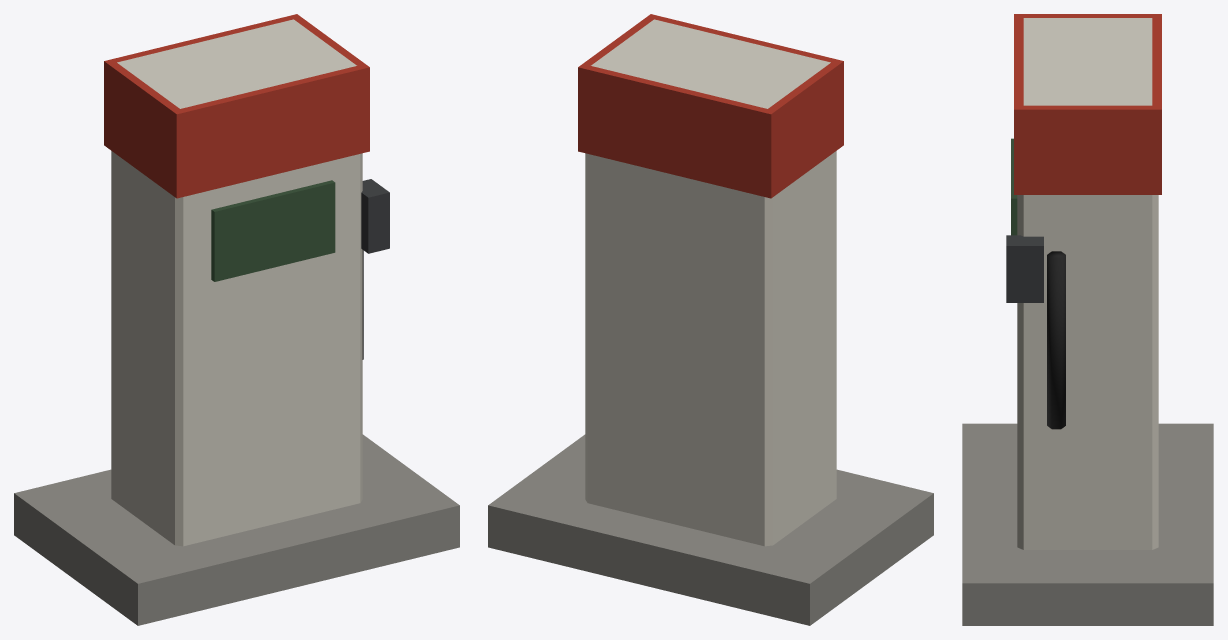
Rendered from fuel_pump.glb.
3 renders of one model, left to right at view 1: azimuth 30°, elevation 25°; view 2: azimuth 150°, elevation 25°; view 3: azimuth 270°, elevation 25°, orthographic.
Visible parts, largest first — view 1: FuelPump; view 2: FuelPump; view 3: FuelPump.
Boxes of the visible parts, bbox=[...] form: FuelPump: bbox=[14, 14, 459, 625]; FuelPump: bbox=[488, 14, 933, 625]; FuelPump: bbox=[962, 14, 1213, 625].
Size of the model in its own units: 1.2 by 1.7 by 0.8.
